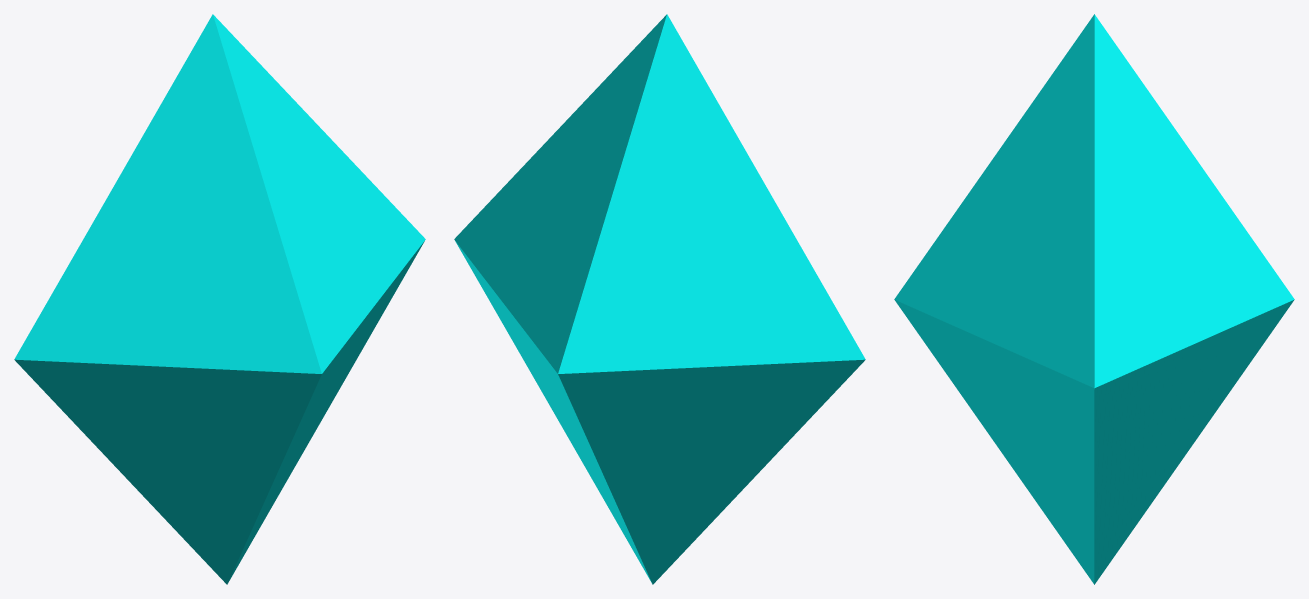
File: diamond.fbx
The picture shows the model from 3 angles, left to right: view 1: azimuth 30°, elevation 25°; view 2: azimuth 150°, elevation 25°; view 3: azimuth 270°, elevation 25°; orthographic projection.
Parts seen in each view (by area): view 1: Cube; view 2: Cube; view 3: Cube.
Boxes of the visible parts, x1,y1,x2,y2 form: Cube: [14, 14, 425, 584]; Cube: [454, 14, 865, 584]; Cube: [894, 14, 1294, 584].
Size of the model in its own units: 212 by 283 by 182.
